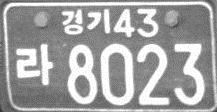0: (99, 43, 134, 105)
2: (135, 43, 169, 106)
3: (173, 42, 205, 106), (136, 7, 158, 38)
4: (112, 7, 135, 37)
8: (66, 43, 97, 105)
경기_O: (60, 7, 109, 36)
라: (15, 43, 53, 85)
